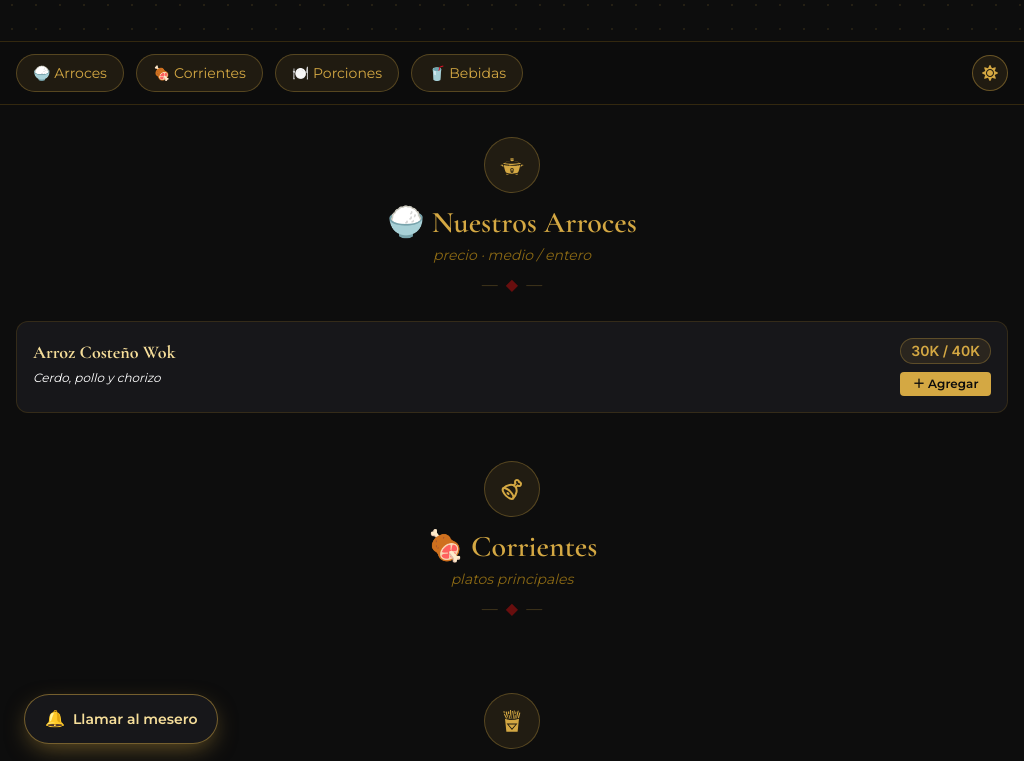
Test: valida datos del cliente antes de confirmar
(page scrolled)
What coordinates should you click on to do the following:
click the button "＋ Agregar"
I would click on:
 (946, 384)
Its box is [900,372,991,396].
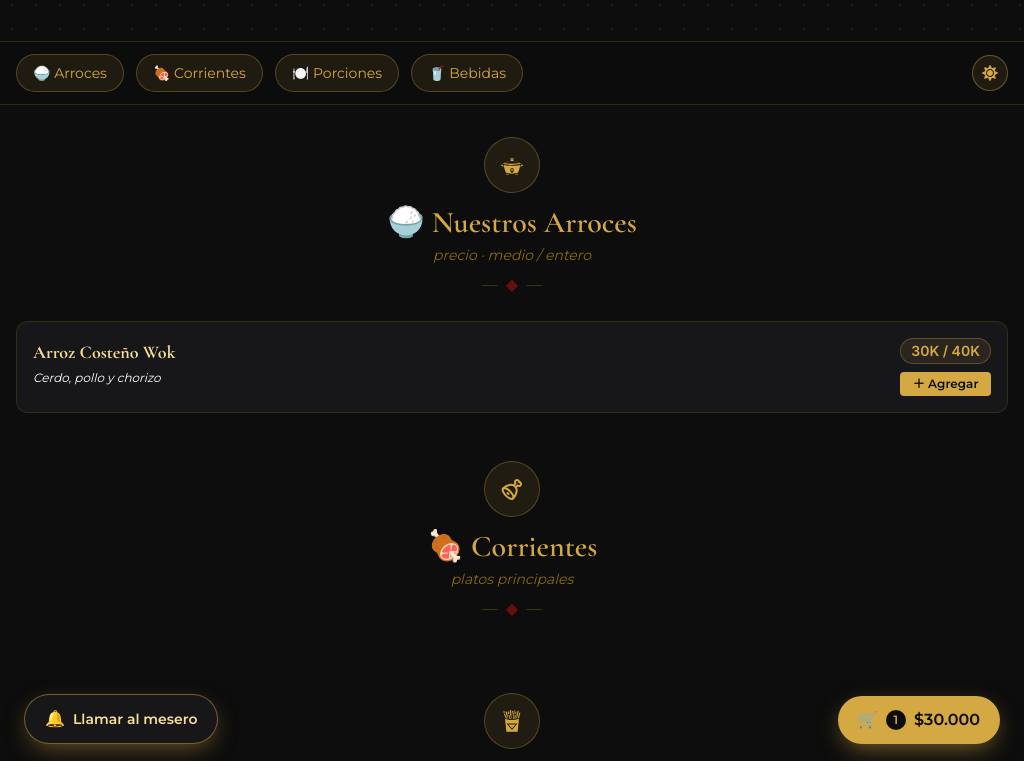
What coordinates should you click on to do the following:
click the button "🛒 1 $30.000"
I would click on:
 (919, 720)
Its box is [838,696,1000,744].
(page scrolled)
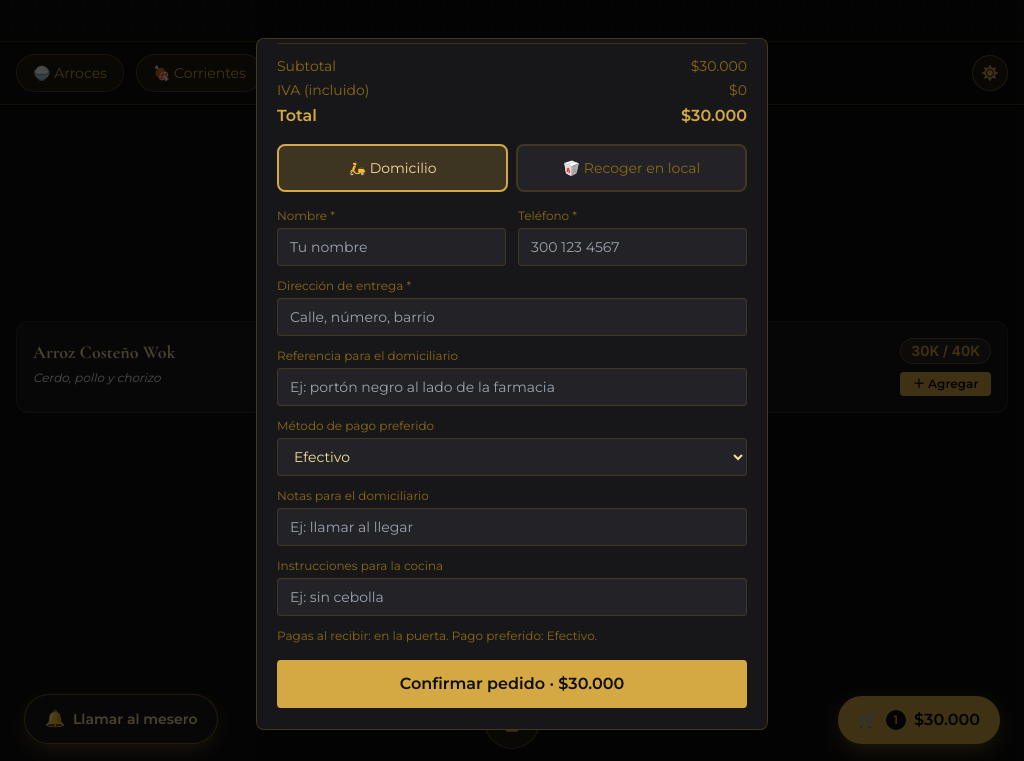
What coordinates should you click on to do the following:
click the button "Confirmar pedido · $30.000"
I would click on:
 (512, 684)
Its box is [277,660,747,708].
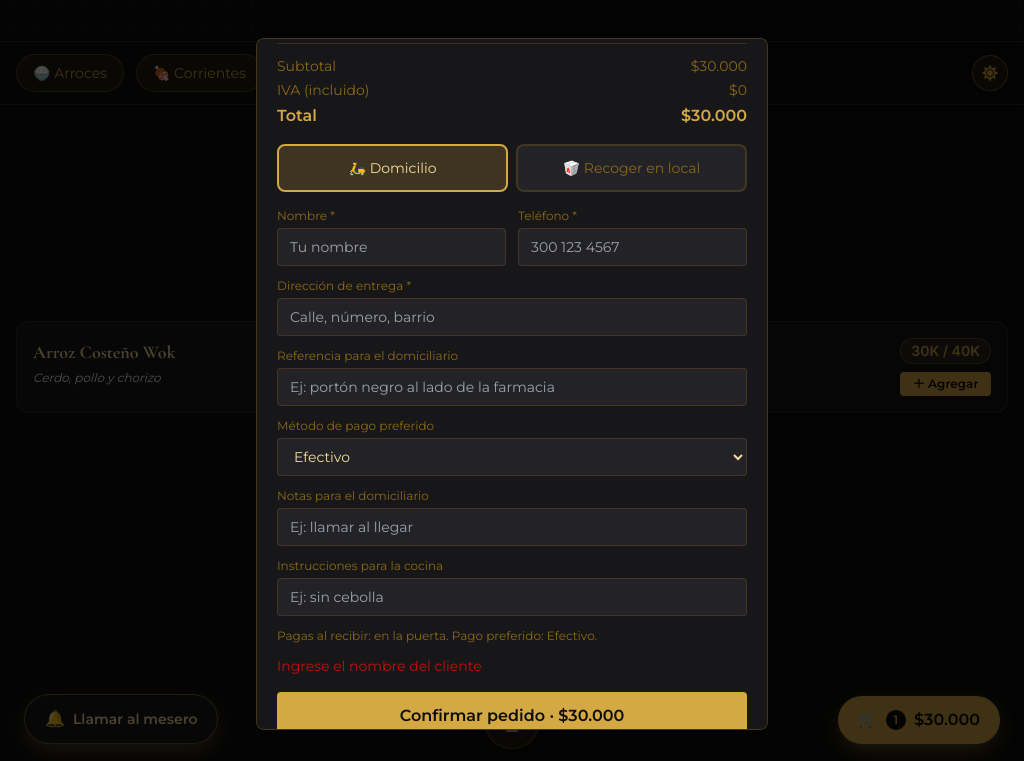
Expected: the text "Ingrese el nombre del cliente" is shown, [277,657,482,675]
